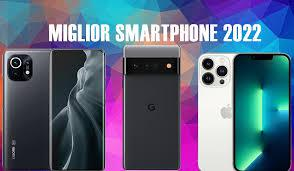Smartphone: (230, 55, 292, 171), (122, 45, 178, 171), (52, 48, 105, 171), (6, 51, 50, 171), (197, 54, 233, 171)
